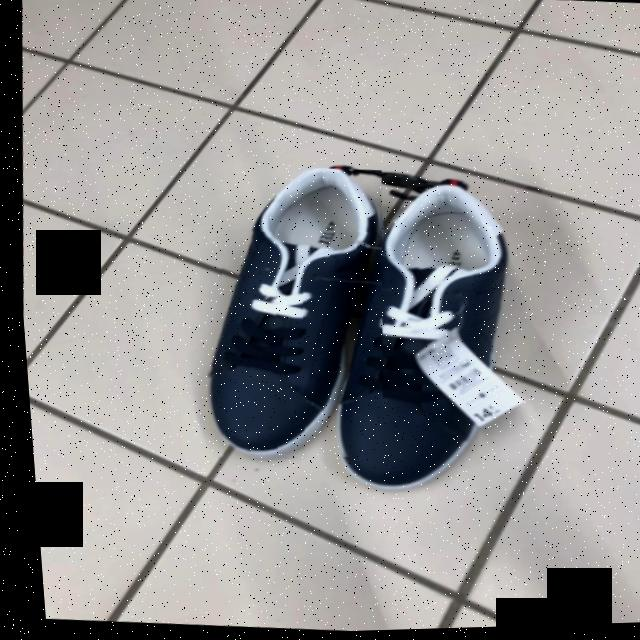shoe: (202, 170, 378, 458)
